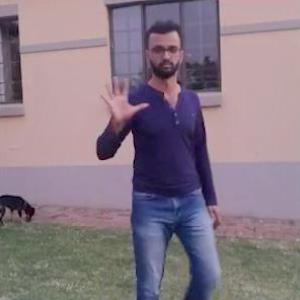follow_hand: (95, 69, 151, 129)
